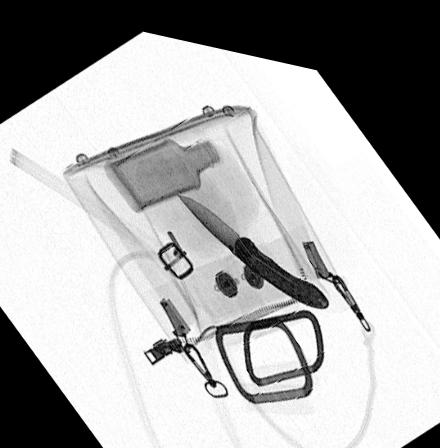Knife: (173, 184, 332, 297)
